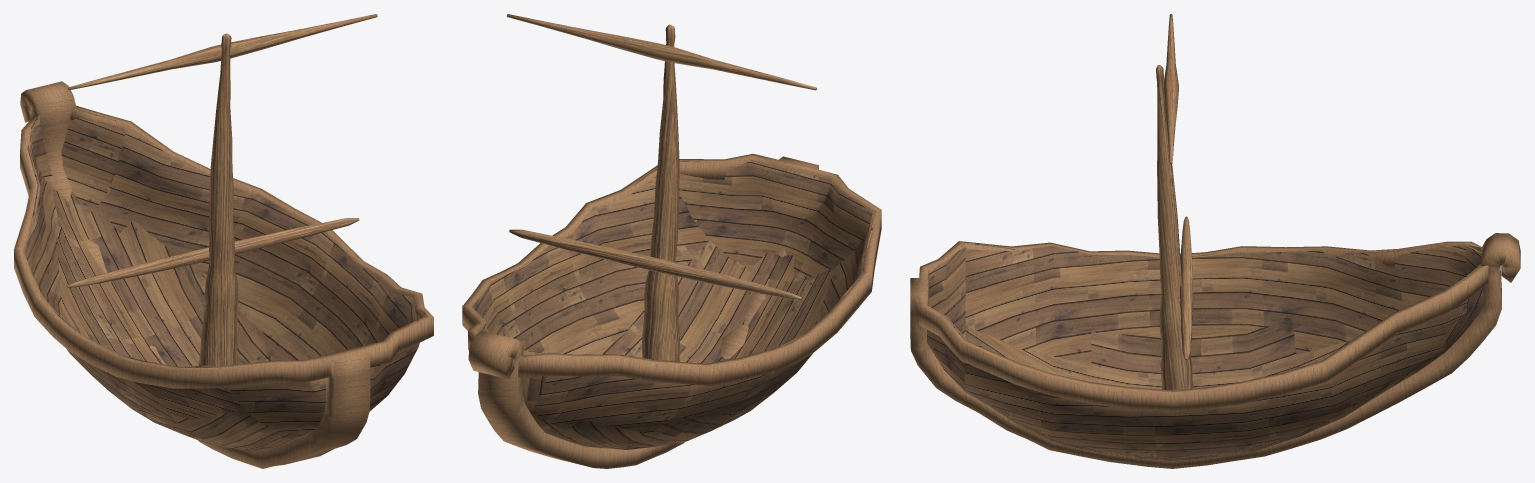
Rendered from Ship.fbx.
3 views of the same model, side by side, from view 1: azimuth 30°, elevation 25°; view 2: azimuth 150°, elevation 25°; view 3: azimuth 270°, elevation 25° (orthographic). The views are drawn at different scales.
Parts seen in each view (by area): view 1: BezierCurve; view 2: BezierCurve; view 3: BezierCurve.
Part boxes in pixels (x1,y1,x2,y2): BezierCurve: (14,14,433,468); BezierCurve: (462,14,881,468); BezierCurve: (910,14,1520,468).
Bounding box in the file's own units: 260 × 328 × 458.
